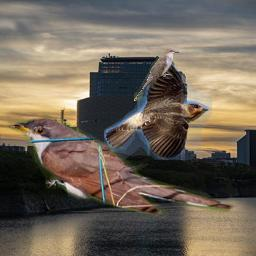Cuckoo: (6, 112, 238, 225), (134, 48, 180, 101)
Swallow: (104, 61, 212, 160)
